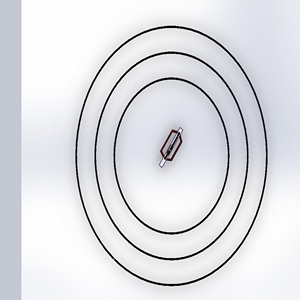circle: (70, 21, 283, 290)
submarine: (148, 121, 195, 174)
